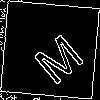M: (25, 25, 87, 87)
